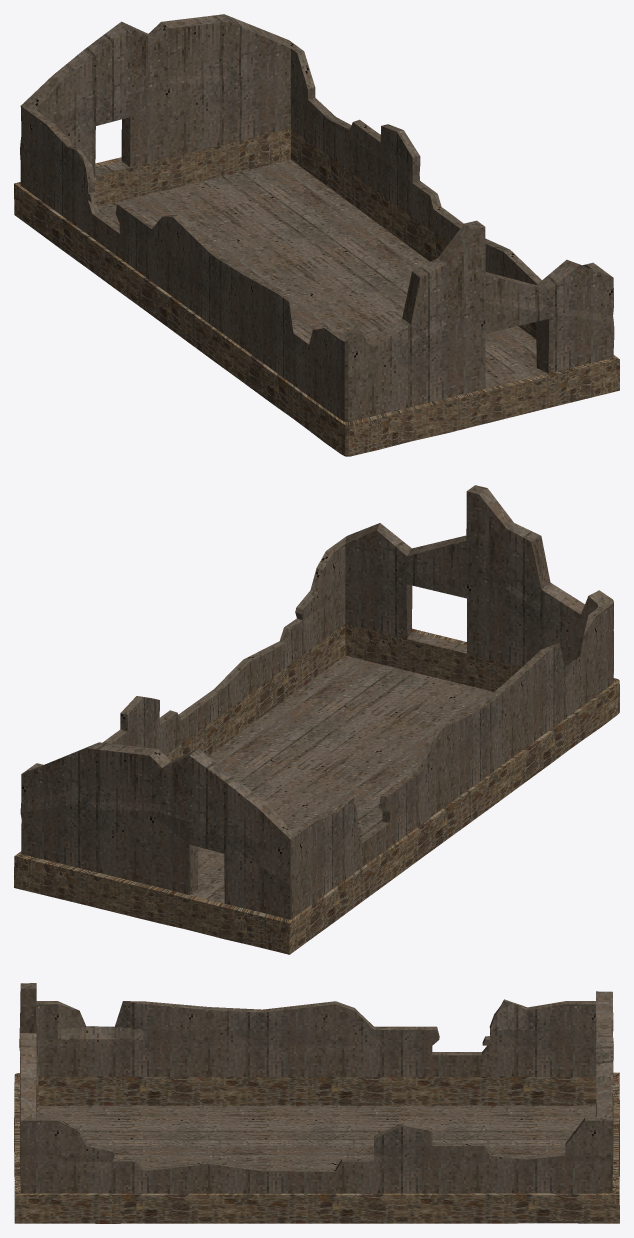
File: GD 3D Home Ruins 2 Wood.fbx
3 renders of one model, top to bottom at view 1: azimuth 30°, elevation 25°; view 2: azimuth 150°, elevation 25°; view 3: azimuth 270°, elevation 25°, orthographic. The views are drawn at different scales.
Visible parts, largest first — view 1: Home Ruin 2 IVG wood; view 2: Home Ruin 2 IVG wood; view 3: Home Ruin 2 IVG wood.
Part boxes in pixels (<box>): Home Ruin 2 IVG wood: <box>14,14,619,456</box>; Home Ruin 2 IVG wood: <box>14,485,619,954</box>; Home Ruin 2 IVG wood: <box>14,983,619,1223</box>.
Size of the model in its own units: 748 by 501 by 1559.
